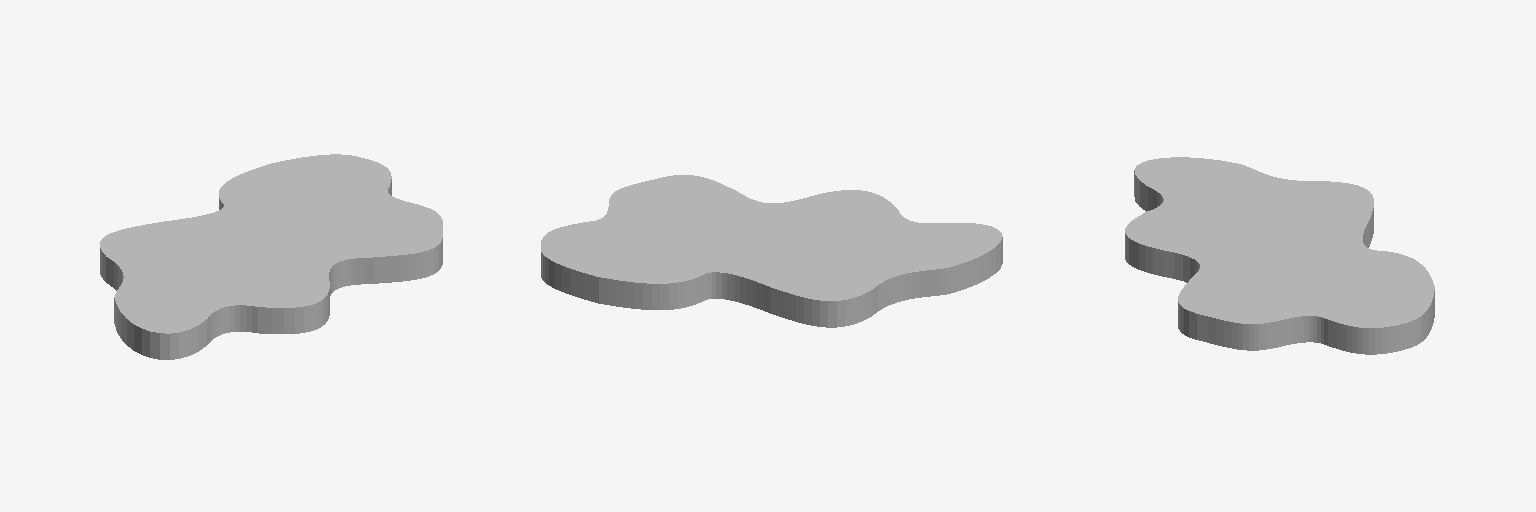
Rendered from 4blob.obj.
The picture shows the model from 3 angles: view 1: azimuth 30°, elevation 25°; view 2: azimuth 150°, elevation 25°; view 3: azimuth 270°, elevation 25°; orthographic projection.
Parts seen in each view (by area): view 1: path1130; view 2: path1130; view 3: path1130.
Part boxes in pixels (bbox=[...]): path1130: bbox=[100, 154, 442, 359]; path1130: bbox=[541, 175, 1002, 327]; path1130: bbox=[1125, 157, 1434, 354].
Size of the model in its own units: 13.86 by 1 by 10.63.